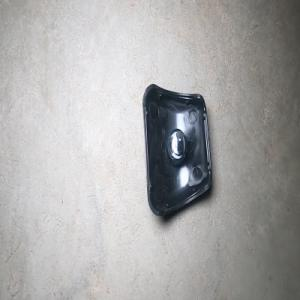LuggagePart: (141, 81, 212, 218)
